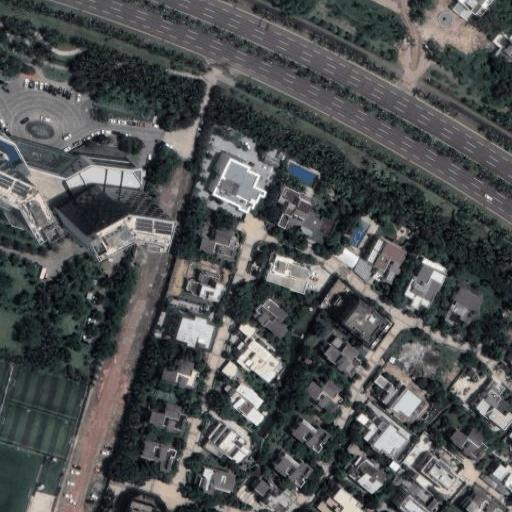building: (0, 137, 142, 230), (55, 186, 142, 230), (211, 157, 268, 216), (278, 187, 338, 240), (373, 374, 428, 425), (355, 411, 408, 460), (341, 300, 392, 349), (201, 420, 254, 467), (404, 257, 449, 309), (236, 339, 284, 386), (444, 278, 484, 331), (224, 382, 269, 427), (366, 237, 408, 285), (265, 253, 311, 294), (323, 336, 364, 381), (344, 455, 388, 496), (0, 155, 30, 214), (304, 378, 346, 417), (271, 451, 314, 488), (449, 427, 491, 464), (291, 418, 331, 456), (252, 297, 289, 338), (311, 271, 348, 311), (138, 439, 178, 474), (149, 401, 189, 435), (184, 271, 226, 303), (420, 455, 459, 489), (163, 360, 202, 393), (176, 317, 216, 349), (195, 466, 238, 495), (476, 400, 512, 432), (201, 230, 239, 260), (325, 485, 365, 512), (328, 239, 359, 267), (167, 257, 187, 298), (256, 138, 284, 165), (236, 319, 258, 353), (483, 378, 506, 408), (128, 494, 163, 512), (399, 493, 432, 512), (491, 33, 512, 62), (491, 464, 512, 492), (464, 491, 490, 512), (222, 360, 239, 378), (253, 480, 270, 497), (318, 501, 336, 512)
